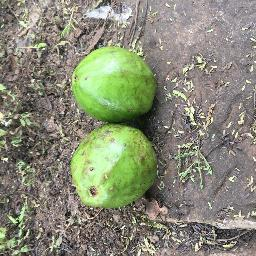Good_guava: (65, 43, 163, 120), (70, 125, 160, 207)
